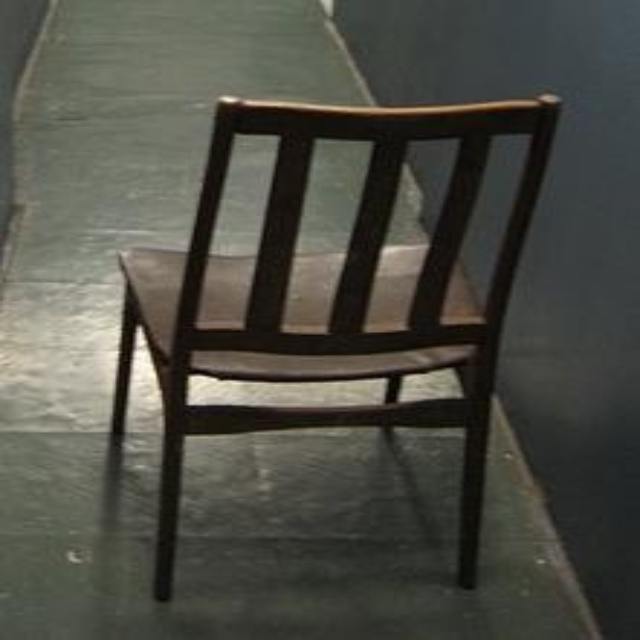obstacle: (113, 96, 556, 598)
